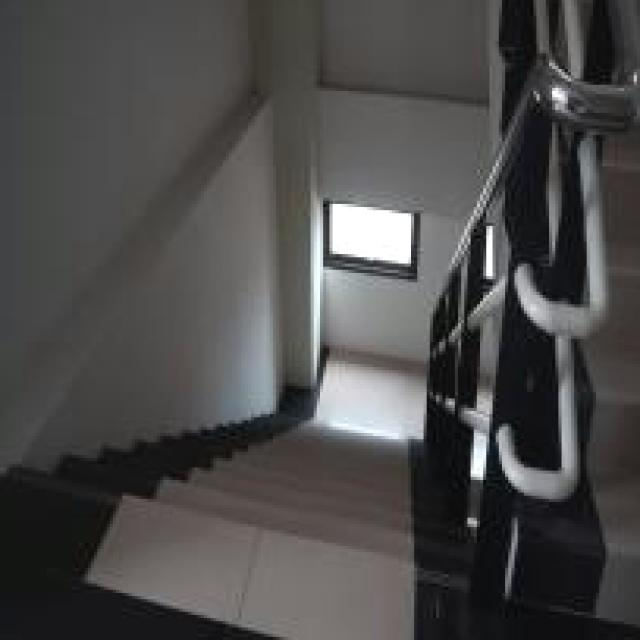downstair: (67, 390, 446, 640)
